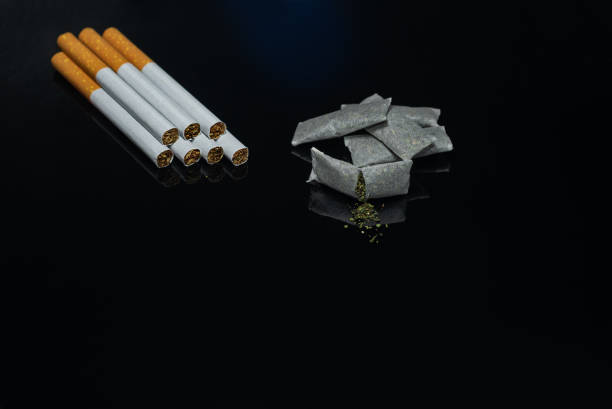cigarette: (101, 22, 225, 139), (51, 51, 174, 168), (57, 30, 179, 145), (78, 27, 201, 139), (217, 130, 249, 165), (192, 131, 224, 164), (171, 136, 201, 166)
